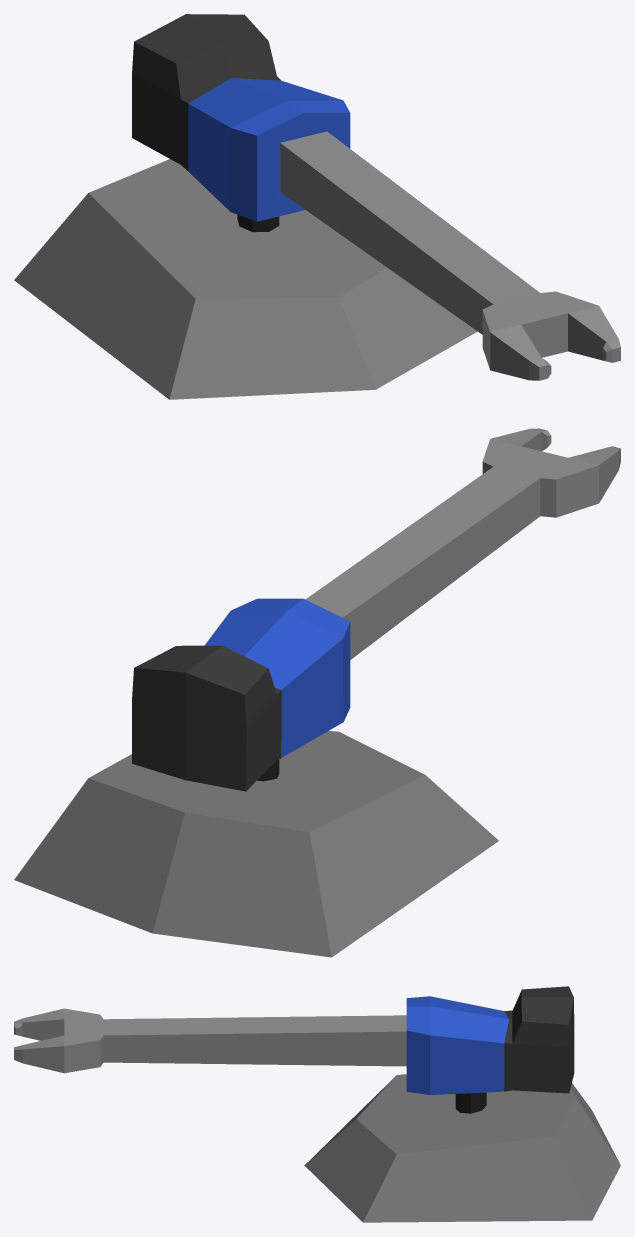
File: RoboTaser.fbx
3 renders of one model, top to bottom at view 1: azimuth 30°, elevation 25°; view 2: azimuth 150°, elevation 25°; view 3: azimuth 270°, elevation 25°, orthographic. The views are drawn at different scales.
Visible parts, largest first — view 1: TaserBase, Taser; view 2: TaserBase, Taser; view 3: Taser, TaserBase, TaserRotator.
Part boxes in pixels (x1=…): TaserBase: x1=14, y1=159, x2=477, y2=399; Taser: x1=132, y1=14, x2=620, y2=380; TaserBase: x1=14, y1=731, x2=498, y2=957; Taser: x1=132, y1=428, x2=620, y2=791; Taser: x1=14, y1=986, x2=574, y2=1094; TaserBase: x1=304, y1=1074, x2=620, y2=1222; TaserRotator: x1=455, y1=1092, x2=486, y2=1113.
Size of the model in its own units: 30.4 by 20.85 by 68.22.
